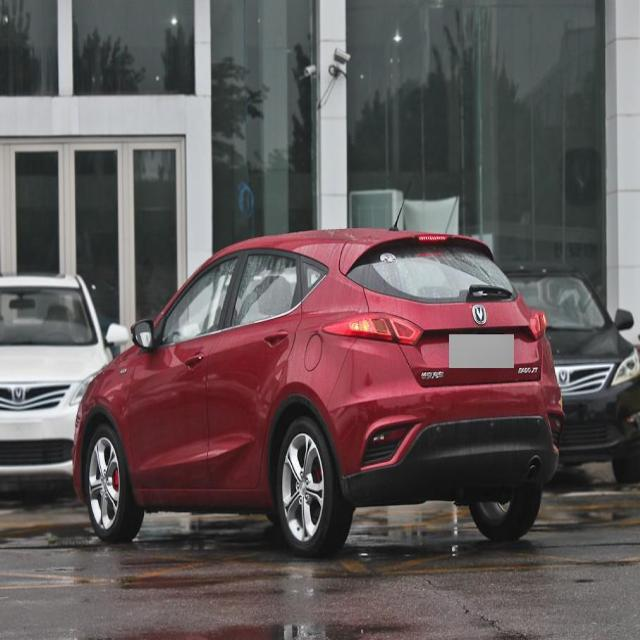back_glass: (346, 241, 526, 323)
back_left_side_light: (320, 301, 430, 363)
back_right_side_light: (516, 297, 560, 361)
door: (200, 243, 300, 490)
front_left_side_door: (120, 234, 249, 505)
front_left_side_mirror: (126, 306, 167, 362)
rear_bumper: (320, 363, 570, 508)
wheel: (274, 414, 356, 559), (83, 412, 145, 541), (465, 494, 556, 546)
